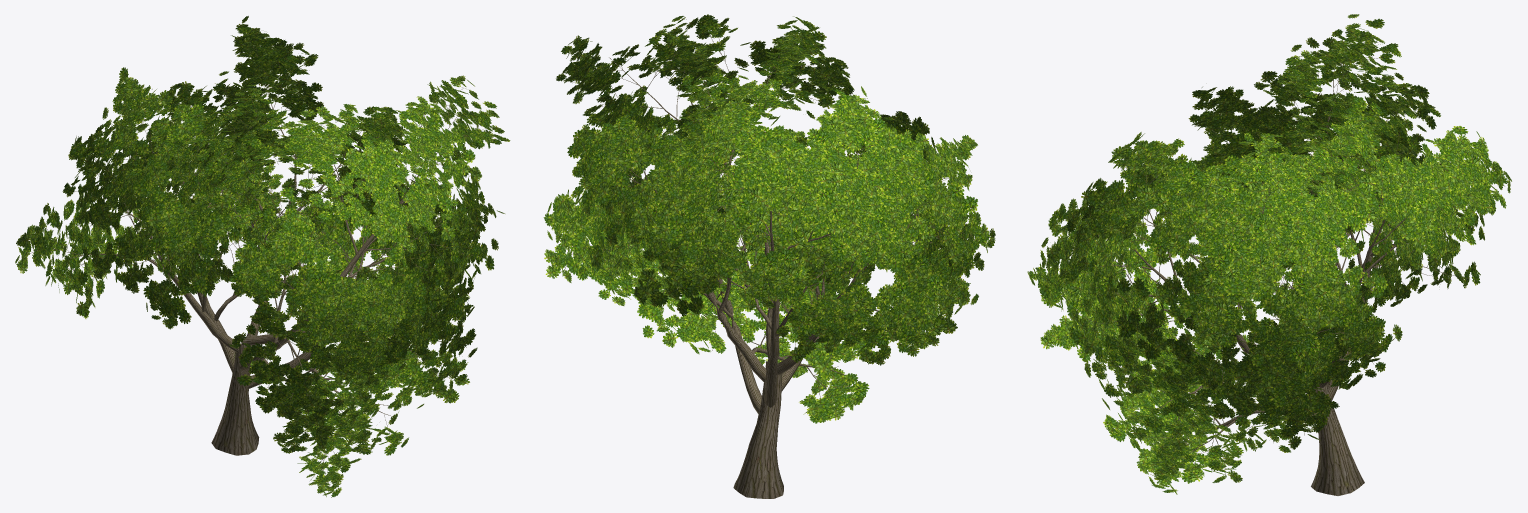
File: tree-oak-a.glb
3 views of the same model, side by side, from view 1: azimuth 30°, elevation 25°; view 2: azimuth 150°, elevation 25°; view 3: azimuth 270°, elevation 25° (orthographic). The views are drawn at different scales.
Parts seen in each view (by area): view 1: leaves, bark; view 2: leaves, bark; view 3: leaves, bark.
Boxes of the visible parts, x1=… form: leaves: x1=15, y1=16, x2=510, y2=497; bark: x1=26, y1=45, x2=496, y2=487; leaves: x1=543, y1=14, x2=995, y2=423; bark: x1=561, y1=28, x2=974, y2=498; leaves: x1=1027, y1=14, x2=1511, y2=494; bark: x1=1055, y1=31, x2=1477, y2=495.
Bounding box in the file's own units: 15.07 × 13.39 × 14.03.
2 materials, 2 textured.
